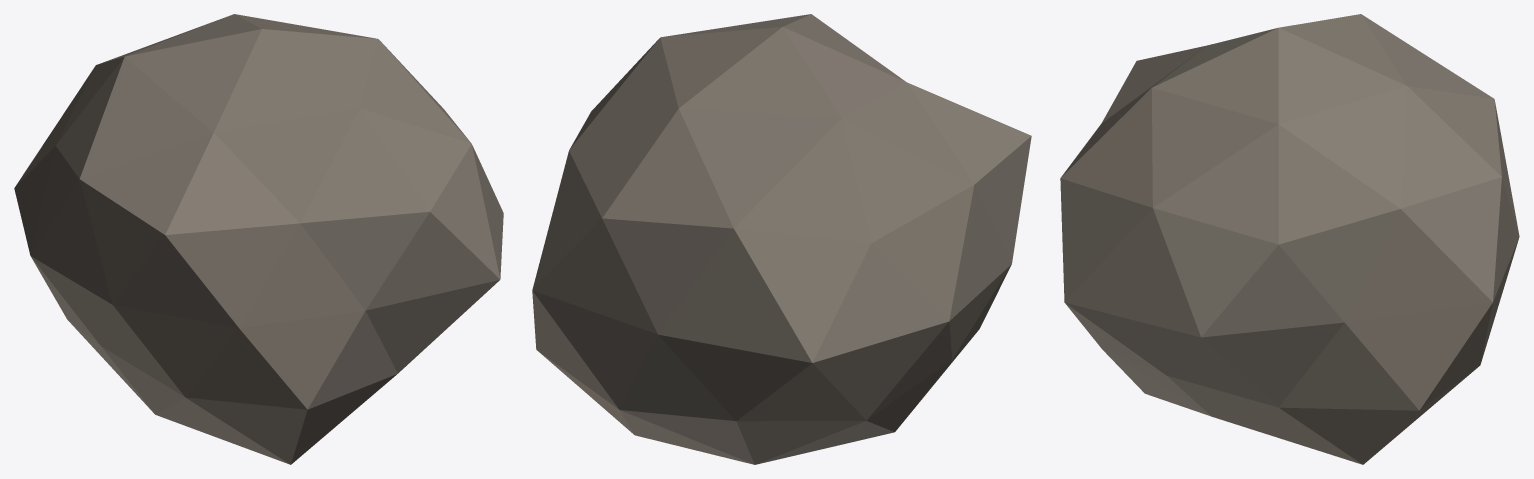
File: prop_boulder.fbx
The picture shows the model from 3 angles, left to right: view 1: azimuth 30°, elevation 25°; view 2: azimuth 150°, elevation 25°; view 3: azimuth 270°, elevation 25°; orthographic projection. The views are drawn at different scales.
Visible parts, largest first — view 1: prop_boulder; view 2: prop_boulder; view 3: prop_boulder.
Part boxes in pixels (<box>): prop_boulder: <box>14,14,503,464</box>; prop_boulder: <box>532,14,1031,464</box>; prop_boulder: <box>1060,14,1519,464</box>.
Size of the model in its own units: 1.04 by 1.01 by 1.03.
1 material, 1 textured.
